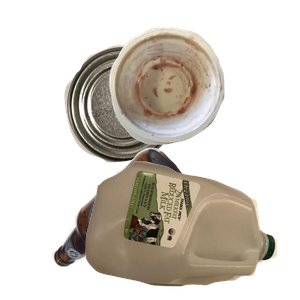glass: (49, 145, 229, 300)
metal: (62, 43, 232, 198)
plastic: (83, 159, 300, 300)
trash: (107, 25, 300, 162)
